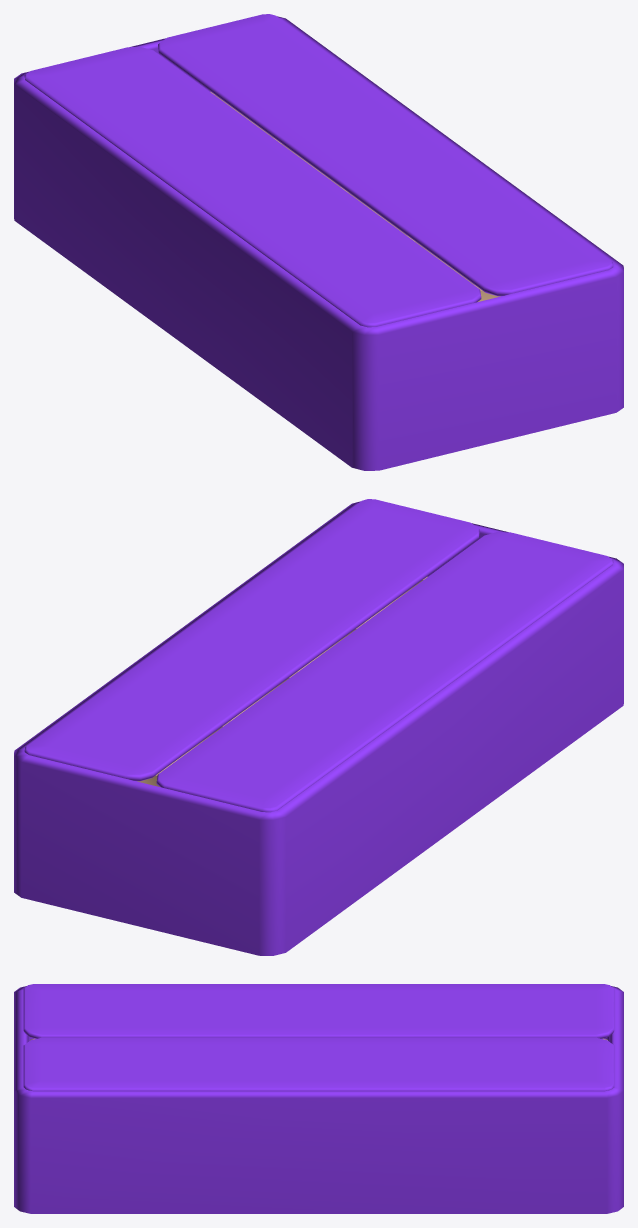
File: Purple_Box.fbx
3 renders of one model, top to bottom at view 1: azimuth 30°, elevation 25°; view 2: azimuth 150°, elevation 25°; view 3: azimuth 270°, elevation 25°, orthographic. The views are drawn at different scales.
Visible parts, largest first — view 1: Purplebox, Yellowbox11, Yellowbox10; view 2: Purplebox, Yellowbox11, Yellowbox10; view 3: Purplebox, Yellowbox11, Yellowbox10.
Part boxes in pixels (x1,y1,x2,y2): Purplebox: (14,16,623,470); Yellowbox11: (158,14,613,296); Yellowbox10: (24,47,481,327); Purplebox: (14,501,623,955); Yellowbox11: (24,499,479,781); Yellowbox10: (156,532,613,812); Purplebox: (14,986,623,1213); Yellowbox11: (23,1037,614,1091); Yellowbox10: (23,984,614,1038).
Bounding box in the file's own units: 252 × 126 × 574.
